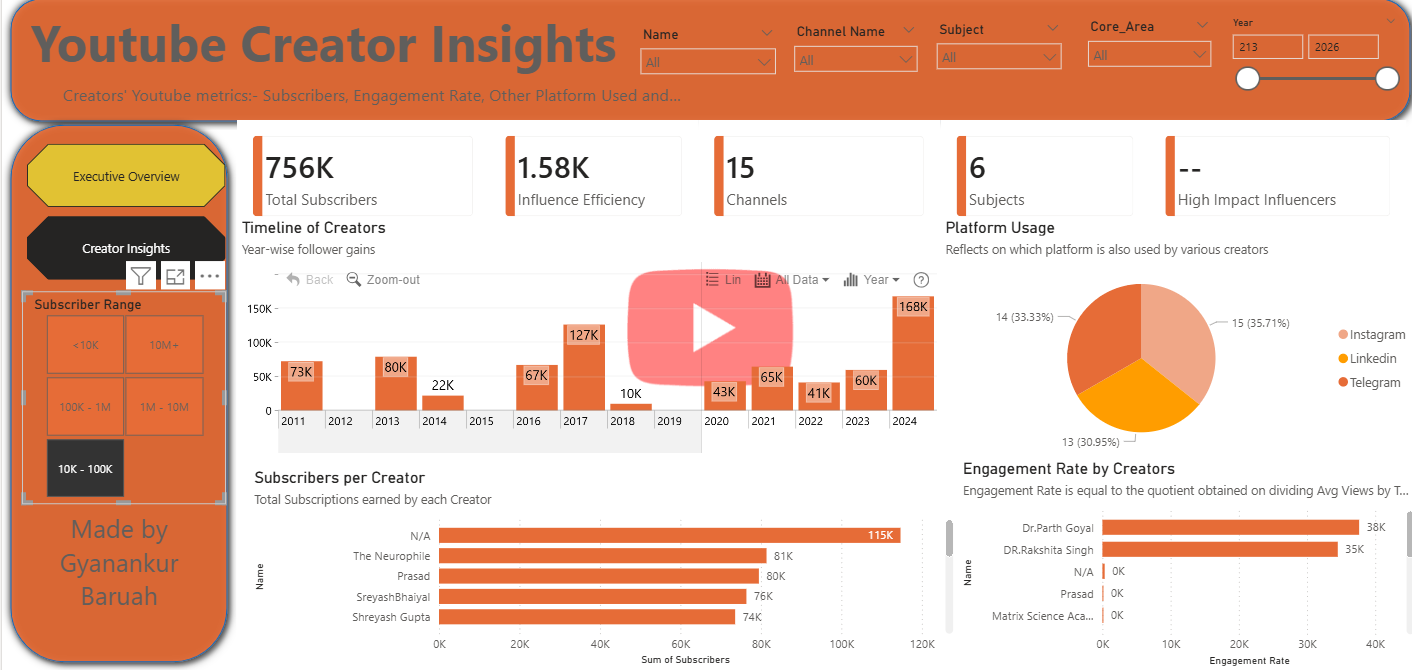

The dashboard page shown, as its layout file describes it:
{"tool":"powerbi","page":{"name":"Creator Insights","canvas":[1500,720],"ordinal":1},"visuals":[{"type":"shape","box":[0,0,1500,148],"z":0},{"type":"shape","box":[0,133.5,247.6,586.9],"z":1000},{"type":"cardVisual","fields":{"Data":["Measures (2).Influence Efficiency"]},"box":[516,138.2,221.3,119.8],"z":2000},{"type":"slicer","fields":{"Values":["Sheet1.Channel_Start_Date.Variation.Date Hierarchy.Year"]},"box":[1289.9,22.6,197.4,86],"z":3000},{"type":"cardVisual","fields":{"Data":["Measures (2).High Impact Influencers"]},"box":[1215.2,138.2,272.1,119.8],"z":4000},{"type":"cardVisual","fields":{"Data":["Count(Sheet1.Subject)"]},"box":[993.9,138.2,221.3,119.8],"z":5000},{"type":"cardVisual","fields":{"Data":["Count(Sheet1.Channel Name)"]},"box":[737.3,138.2,256.6,119.8],"z":6000},{"type":"barChart","title":"Subscribers per Creator","fields":{"Category":["Sheet1.Name"],"Y":["Sum(Sheet1.Follower/Subscriber_count)"]},"box":[262.2,506.1,750,214.3],"z":7000},{"type":"pageNavigator","box":[26.5,162.8,210.4,144.2],"z":8000},{"type":"slicer","fields":{"Values":["Sheet1.Subject"]},"box":[979.8,28.2,152.3,66.3],"z":9000},{"type":"slicer","fields":{"Values":["Sheet1.Channel Name"]},"box":[828.9,31,150.8,70.5],"z":10000},{"type":"slicer","fields":{"Values":["Sheet1.Name"]},"box":[665.4,32.4,163.5,62],"z":11000},{"type":"actionButton","box":[26.8,14.1,638.6,80.4],"z":12000},{"type":"cardVisual","fields":{"Data":["Sum(Sheet1.Follower/Subscriber_count)"]},"box":[248.1,138.2,267.9,119.8],"z":13000},{"type":"slicer","fields":{"Values":["Sheet1.Core_Area"]},"box":[1139.1,25.4,150.8,70.5],"z":14000},{"type":"pieChart","title":"Platform Usage","fields":{"Y":["CountNonNull(Sheet1.Instagram)","CountNonNull(Sheet1.LinedIn)","CountNonNull(Sheet1.Telegram)"]},"box":[993.9,241.1,506.1,255.2],"z":15000},{"type":"clusteredBarChart","title":"Engagement Rate by Creators","fields":{"Category":["Sheet1.Name"],"Y":["Measures (2).Engagement Rate"]},"box":[1012.2,496.2,487.8,224.2],"z":16000},{"type":"ZoomChartsDrillDownTimelinePro7F6C01BA1C534E9AB4A6BCCB44F591","title":"Timeline of Creators","fields":{"Values1":["Measures (2).Total Followers"],"DateValue":["Min(Sheet1.Channel_Start_Date)"],"Category":["Sheet1.Channel_Start_Date.Variation.Date Hierarchy.Year","Sheet1.Channel_Start_Date.Variation.Date Hierarchy.Quarter","Sheet1.Channel_Start_Date.Variation.Date Hierarchy.Month","Sheet1.Channel_Start_Date.Variation.Date Hierarchy.Day"]},"box":[248.1,241.1,745.8,255.2],"z":17000},{"type":"actionButton","box":[21.1,521.6,205.8,166.4],"z":18000},{"type":"actionButton","box":[32.4,90.2,704.9,42.3],"z":19000},{"type":"slicer","fields":{"Values":["Sheet1.Subscriber Range"]},"box":[21.2,318.9,215.7,224.9],"z":20000}]}

Visuals, with their boxes in screenshot pixels (x1, y1, x2, y2), scaled from the page's 1500x720 canvas onto the 1412x670 screenshot:
shape: box=[0, 0, 1411, 138]
shape: box=[0, 124, 233, 669]
cardVisual - Measures (2).Influence Efficiency: box=[486, 129, 694, 240]
slicer - Sheet1.Channel_Start_Date.Variation.Date Hierarchy.Year: box=[1214, 21, 1400, 101]
cardVisual - Measures (2).High Impact Influencers: box=[1144, 129, 1400, 240]
cardVisual - Count(Sheet1.Subject): box=[936, 129, 1144, 240]
cardVisual - Count(Sheet1.Channel Name): box=[694, 129, 936, 240]
"Subscribers per Creator" barChart: box=[247, 471, 953, 669]
pageNavigator: box=[25, 151, 223, 286]
slicer - Sheet1.Subject: box=[922, 26, 1066, 88]
slicer - Sheet1.Channel Name: box=[780, 29, 922, 94]
slicer - Sheet1.Name: box=[626, 30, 780, 88]
actionButton: box=[25, 13, 626, 88]
cardVisual - Sum(Sheet1.Follower/Subscriber_count): box=[234, 129, 486, 240]
slicer - Sheet1.Core_Area: box=[1072, 24, 1214, 89]
"Platform Usage" pieChart: box=[936, 224, 1411, 462]
"Engagement Rate by Creators" clusteredBarChart: box=[953, 462, 1411, 669]
"Timeline of Creators" ZoomChartsDrillDownTimelinePro7F6C01BA1C534E9AB4A6BCCB44F591: box=[234, 224, 936, 462]
actionButton: box=[20, 485, 214, 640]
actionButton: box=[30, 84, 694, 123]
slicer - Sheet1.Subscriber Range: box=[20, 297, 223, 506]
